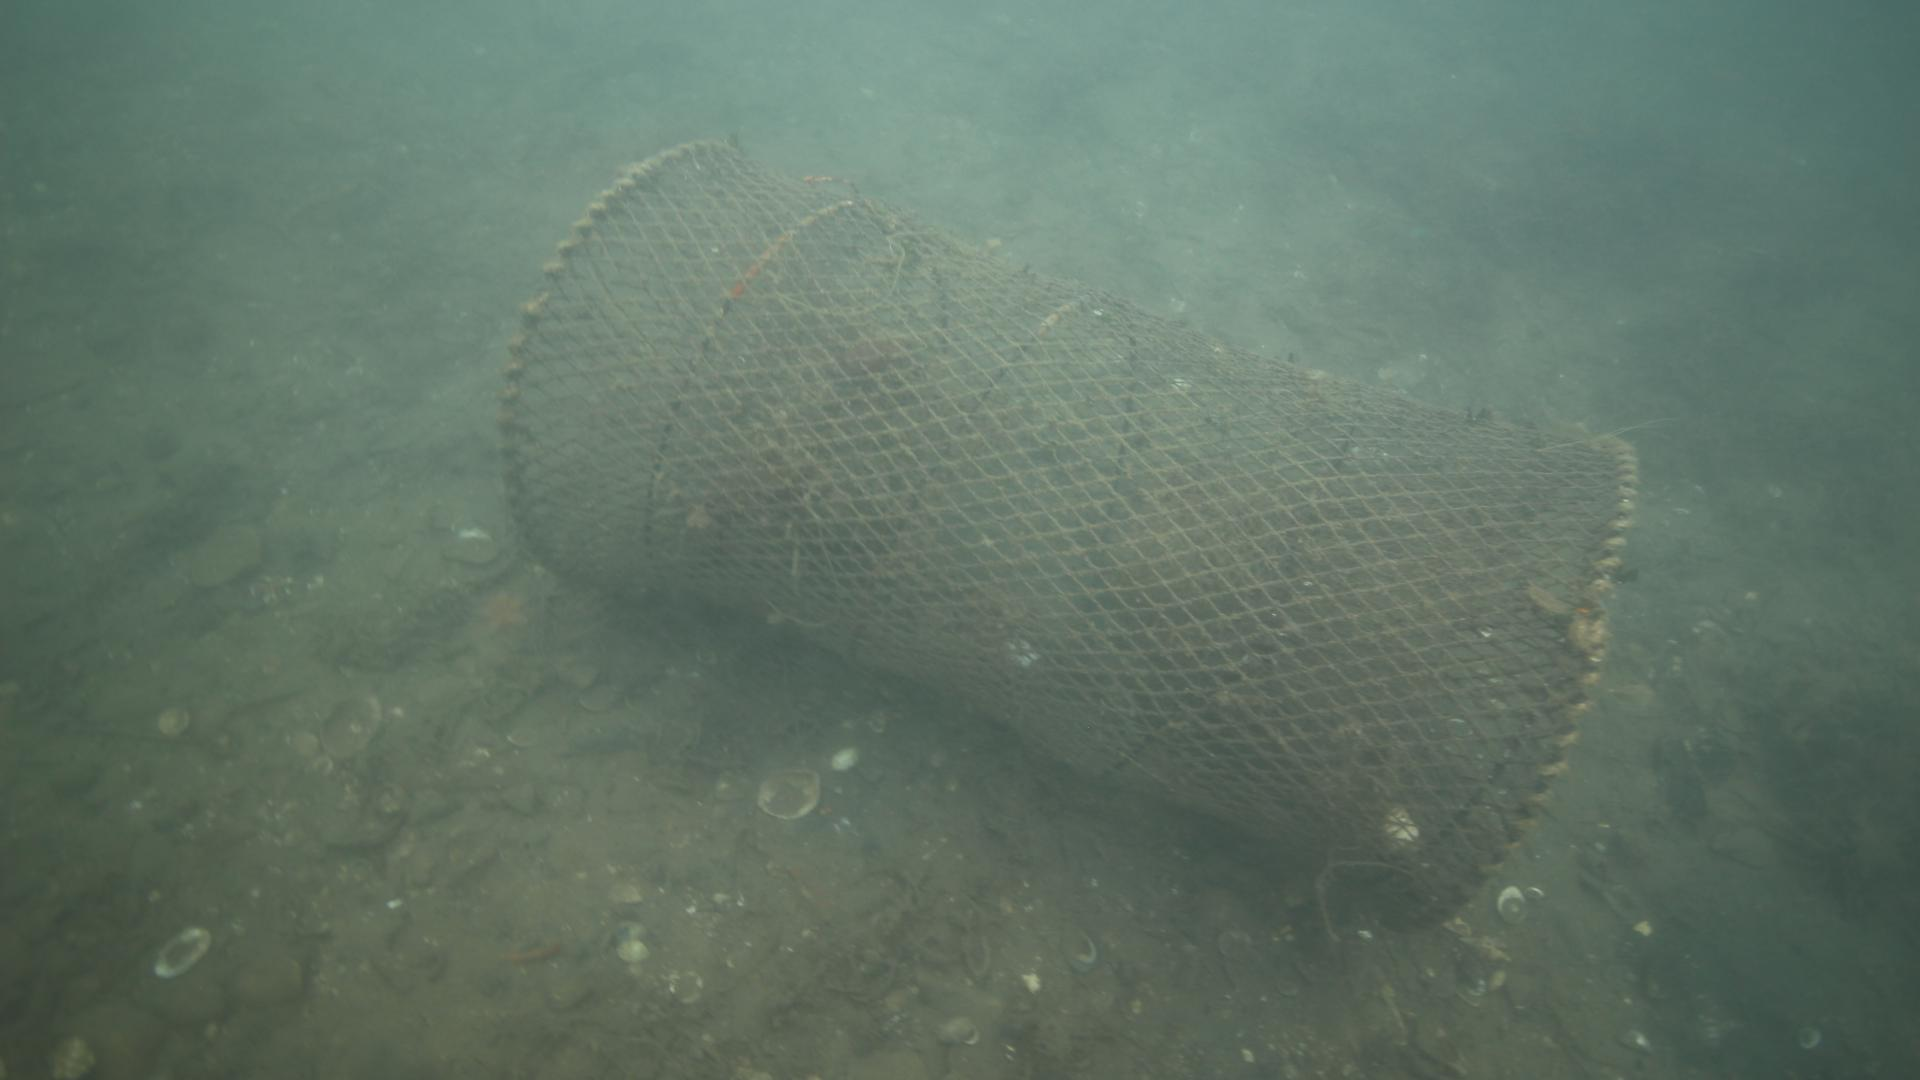spring fish trap: (497, 133, 1643, 938)
